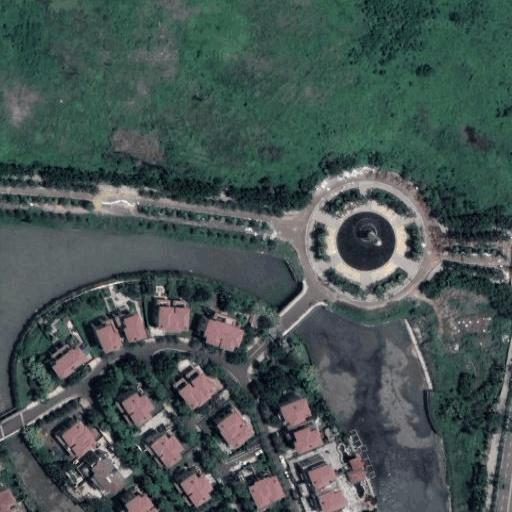building: (275, 394, 320, 450), (91, 306, 144, 348), (298, 453, 338, 504), (171, 367, 214, 409), (79, 451, 120, 492), (196, 307, 237, 348), (46, 342, 88, 378), (54, 416, 92, 454), (212, 404, 249, 442), (111, 386, 150, 422), (170, 468, 209, 503), (141, 429, 180, 464), (246, 471, 283, 506), (150, 297, 186, 329), (348, 468, 365, 484), (350, 456, 364, 470), (298, 482, 311, 497), (323, 428, 334, 442)
